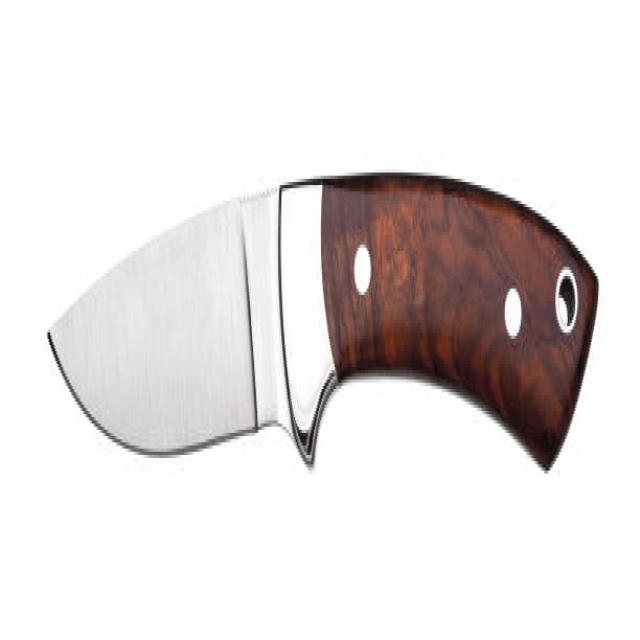knife: (45, 159, 603, 500)
